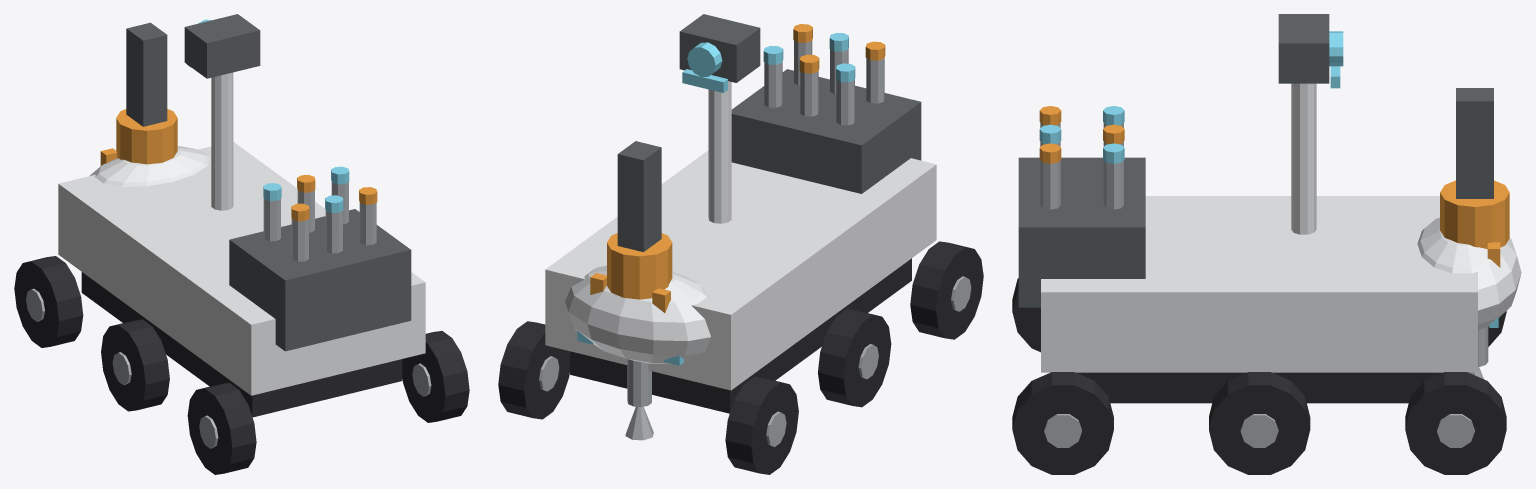
The model's file is SM_Unit_GeologistBot.glb.
3 renders of one model, left to right at view 1: azimuth 30°, elevation 25°; view 2: azimuth 150°, elevation 25°; view 3: azimuth 270°, elevation 25°, orthographic. The views are drawn at different scales.
Parts seen in each view (by area): view 1: SM_Unit_GeologistBot; view 2: SM_Unit_GeologistBot; view 3: SM_Unit_GeologistBot.
Part boxes in pixels (bbox=[...]): SM_Unit_GeologistBot: bbox=[14, 14, 469, 474]; SM_Unit_GeologistBot: bbox=[498, 14, 983, 474]; SM_Unit_GeologistBot: bbox=[1012, 14, 1521, 474].
Bounding box in the file's own units: 1 × 1.33 × 1.61.
